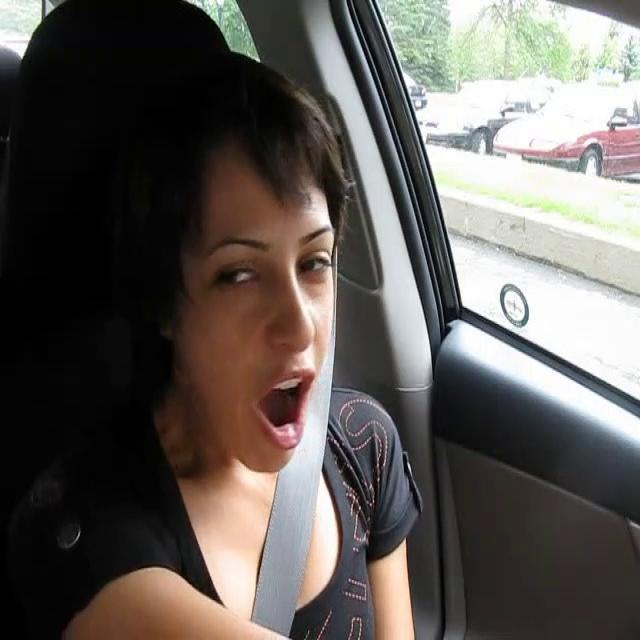open-mouth: (249, 369, 315, 452)
